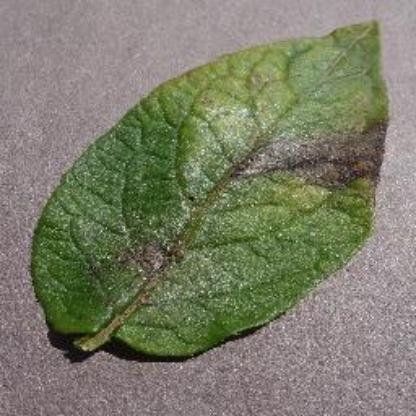Late-Blight: (28, 19, 390, 371)
